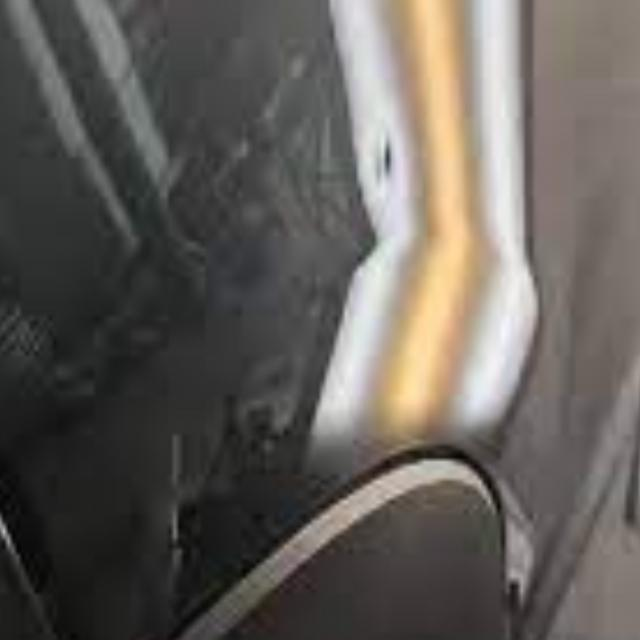dents: (365, 119, 442, 222)
